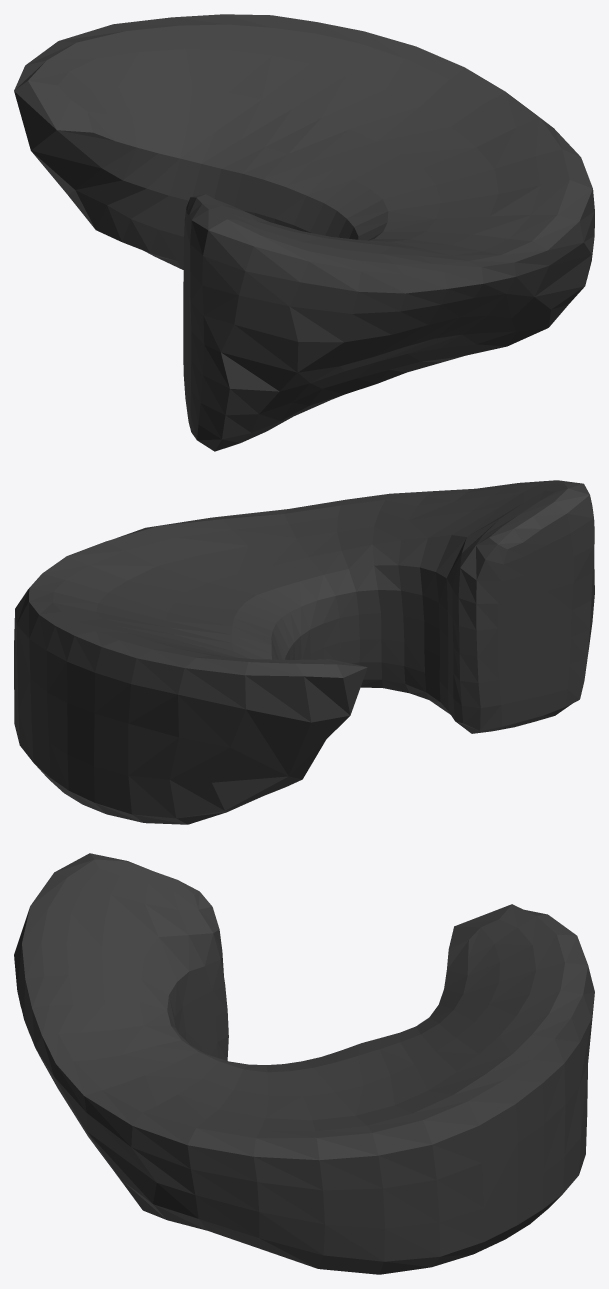
Rendered from Lateral_meniscus.glb.
The picture shows the model from 3 angles, top to bottom: view 1: azimuth 30°, elevation 25°; view 2: azimuth 150°, elevation 25°; view 3: azimuth 270°, elevation 25°; orthographic projection. The views are drawn at different scales.
Visible parts, largest first — view 1: Lateral_meniscus; view 2: Lateral_meniscus; view 3: Lateral_meniscus.
Part boxes in pixels (x1,y1,x2,y2): Lateral_meniscus: (14, 14, 594, 451); Lateral_meniscus: (14, 480, 594, 824); Lateral_meniscus: (14, 853, 594, 1274).
Size of the model in its own units: 57.45 by 28.25 by 65.91.
Materials: 1 (1 with a texture image).
